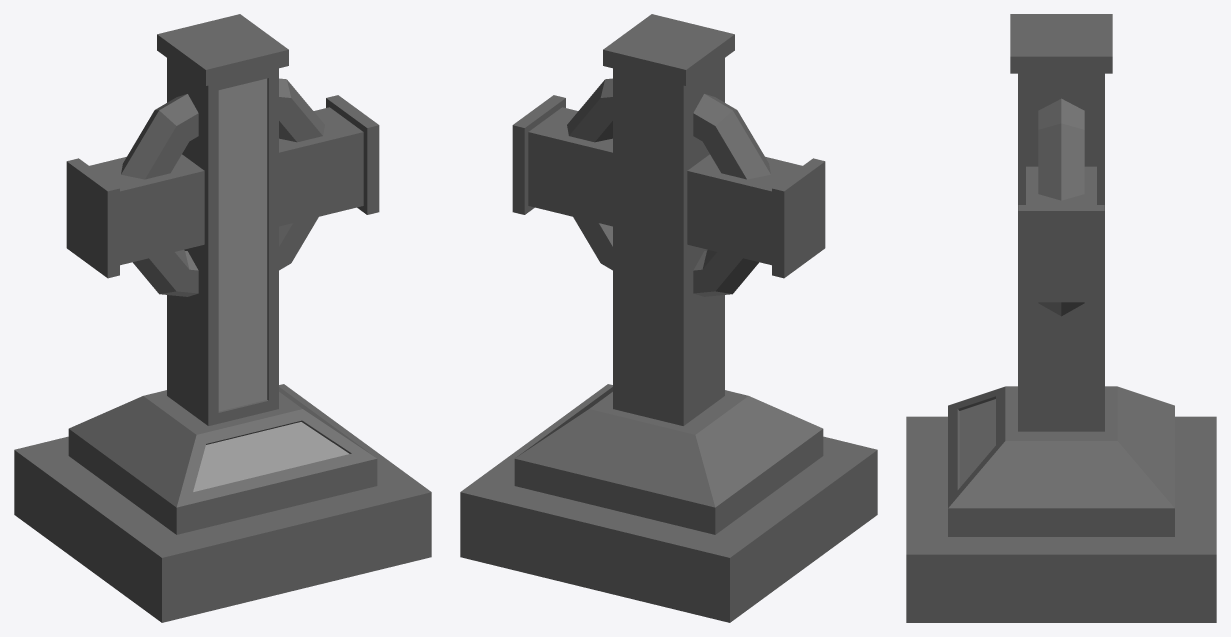
Rendered from Headstone_4_1.fbx.
The picture shows the model from 3 angles, left to right: view 1: azimuth 30°, elevation 25°; view 2: azimuth 150°, elevation 25°; view 3: azimuth 270°, elevation 25°; orthographic projection. The views are drawn at different scales.
Parts seen in each view (by area): view 1: Headstone_4_1; view 2: Headstone_4_1; view 3: Headstone_4_1.
Part boxes in pixels (left/top/right/bottom): Headstone_4_1: left=14, top=14, right=431, bottom=622; Headstone_4_1: left=460, top=14, right=877, bottom=622; Headstone_4_1: left=906, top=14, right=1216, bottom=622.
Size of the model in its own units: 48 by 83.42 by 45.25.
